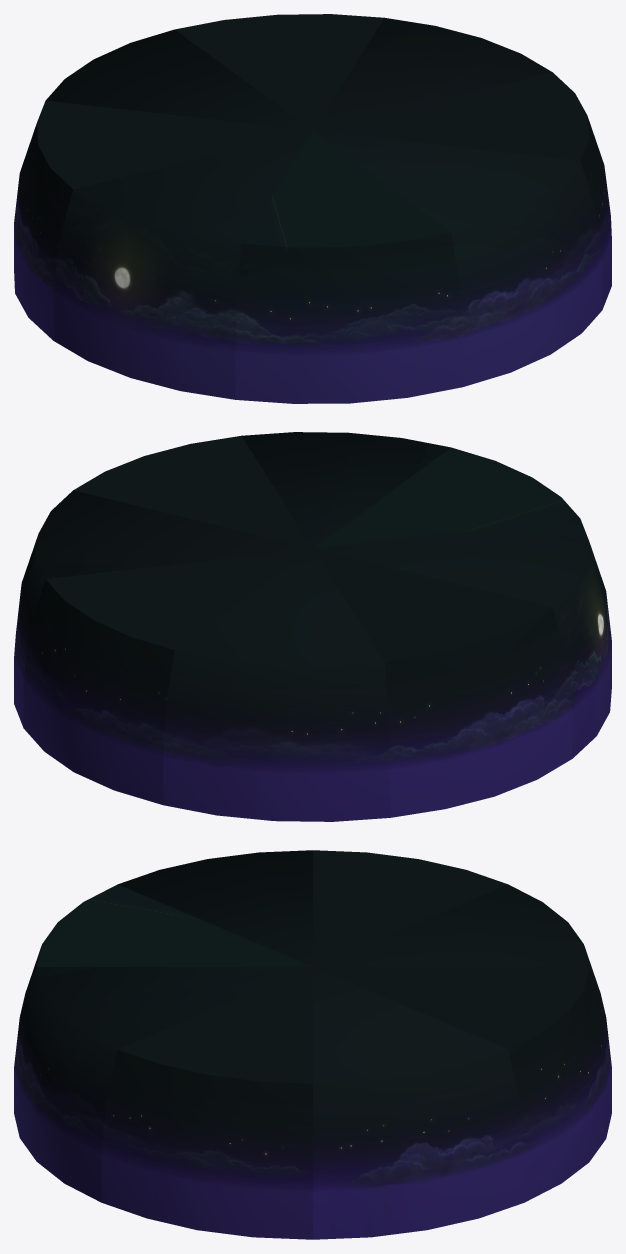
File: Racing Dark.glb
The picture shows the model from 3 angles, top to bottom: view 1: azimuth 30°, elevation 25°; view 2: azimuth 150°, elevation 25°; view 3: azimuth 270°, elevation 25°; orthographic projection.
Parts seen in each view (by area): view 1: Geo.147_688; view 2: Geo.147_688; view 3: Geo.147_688.
Part boxes in pixels (bbox=[...]): Geo.147_688: bbox=[14, 14, 611, 403]; Geo.147_688: bbox=[14, 432, 611, 821]; Geo.147_688: bbox=[14, 850, 611, 1239].
Bounding box in the file's own units: 592 × 160 × 592.
100 materials, 99 textured.
